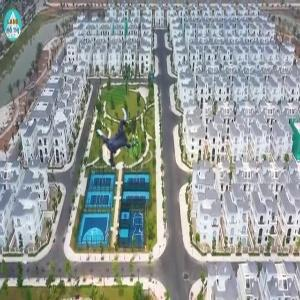drone: (88, 108, 145, 165)
